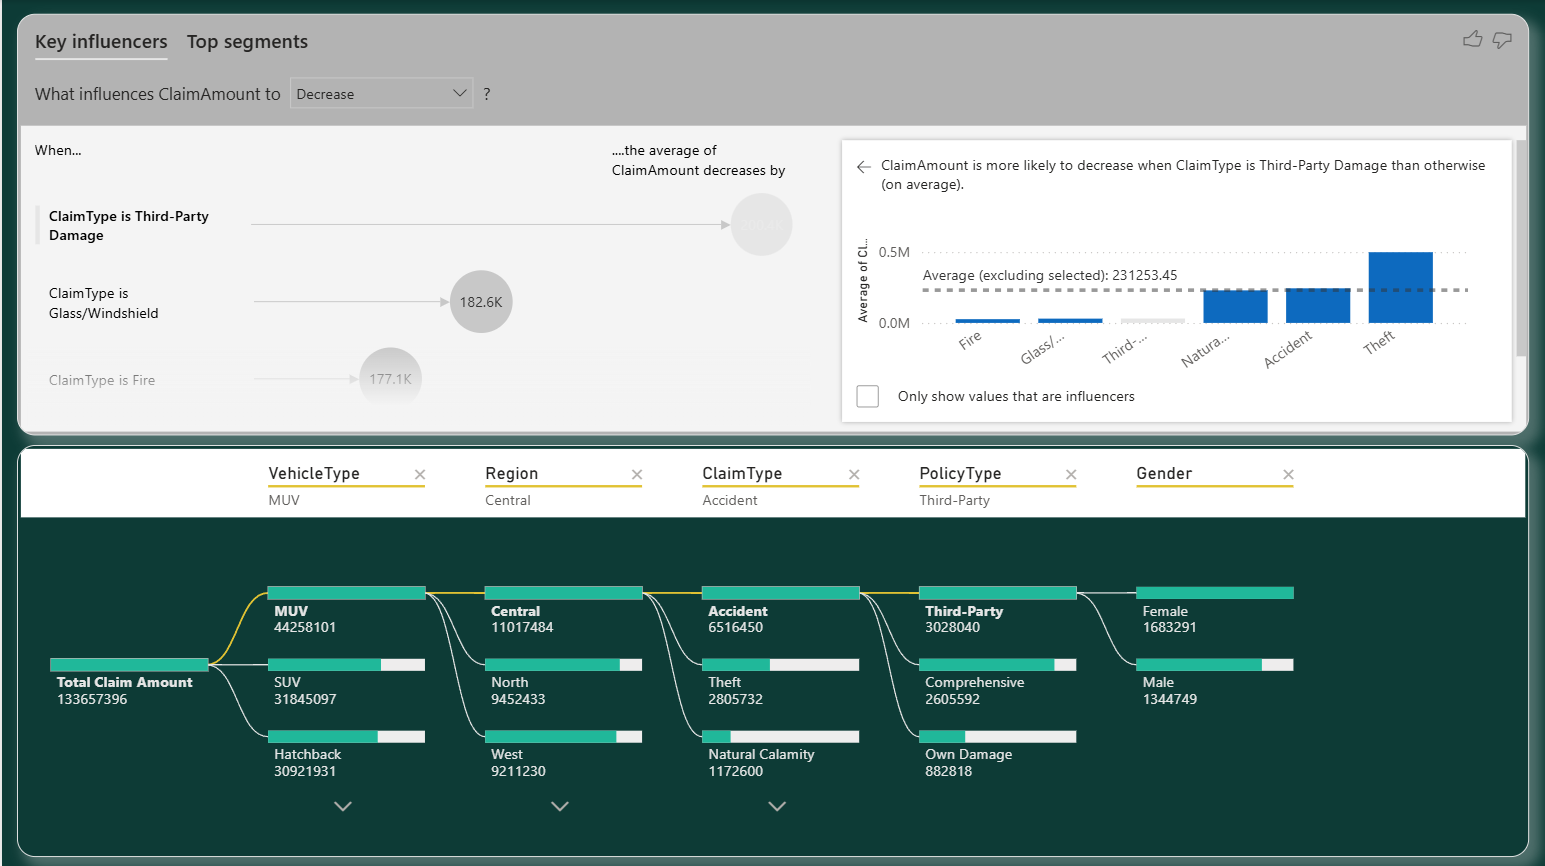

The page's visual inventory and layout, read from the dashboard file:
{"tool":"powerbi","page":{"name":"smart analysis","canvas":[1280,720],"ordinal":2},"visuals":[{"type":"keyDriversVisual","fields":{"ExplainBy":["Claims.ClaimType","Claims.ClaimID","Claims.PolicyID","Claims.ClaimStatus"],"Target":["Claims.ClaimAmount"]},"box":[12.3,11.2,1254,349.5],"z":0},{"type":"decompositionTreeVisual","fields":{"Analyze":["Claims.Total Claim Amount"],"ExplainBy":["Vehicles.VehicleType","Customers.Region","Claims.ClaimType","Policies.PolicyType","Customers.Gender"]},"box":[12.8,368.6,1253.5,341.9],"z":1000}]}

Visuals, with their boxes in screenshot pixels (x1, y1, x2, y2), scaled from the page's 1280x720 canvas onto the 1545x866 screenshot:
keyDriversVisual - Claims.ClaimType x Claims.ClaimID: BBox(15, 13, 1528, 434)
decompositionTreeVisual - Claims.Total Claim Amount x Vehicles.VehicleType: BBox(15, 443, 1528, 855)
